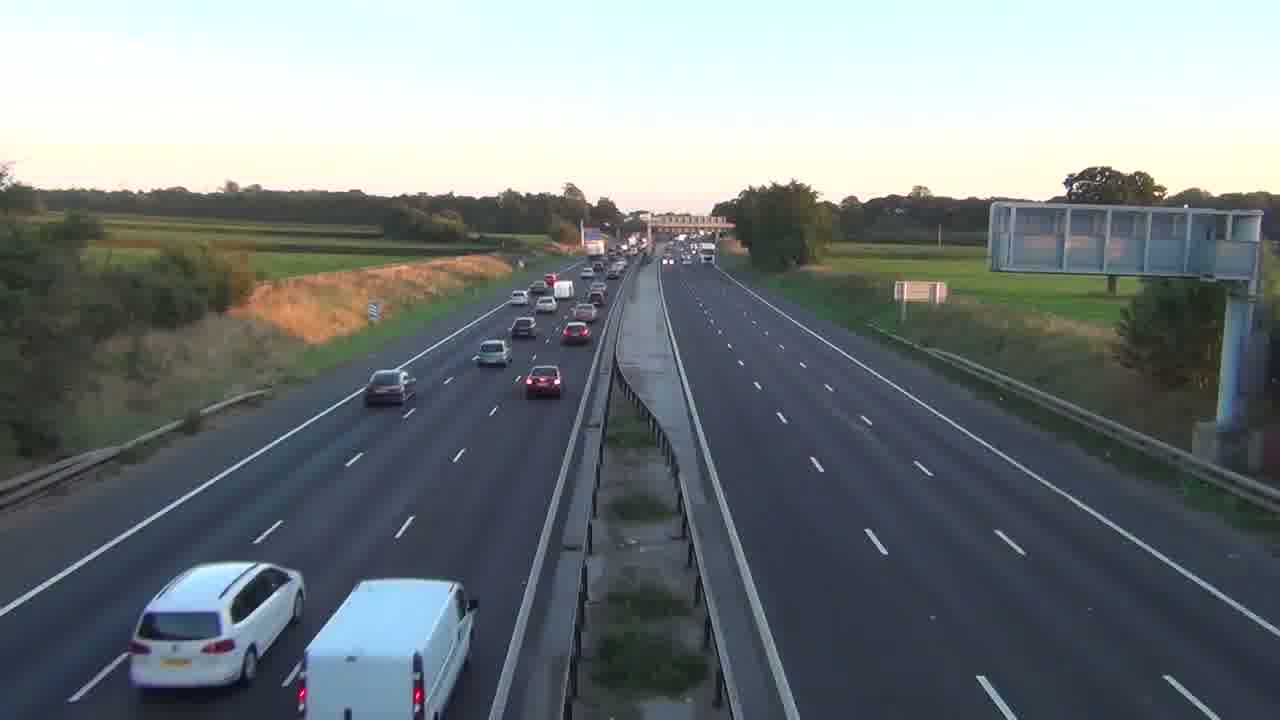car: (127, 559, 306, 693), (366, 367, 416, 406), (515, 366, 562, 398), (474, 339, 511, 367), (561, 321, 593, 347), (511, 316, 536, 336)
truck: (295, 576, 480, 718)
